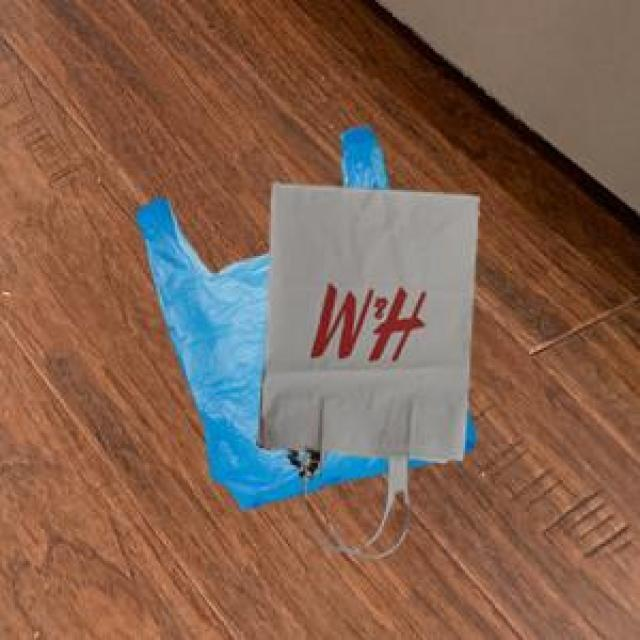paper: (254, 177, 476, 550)
